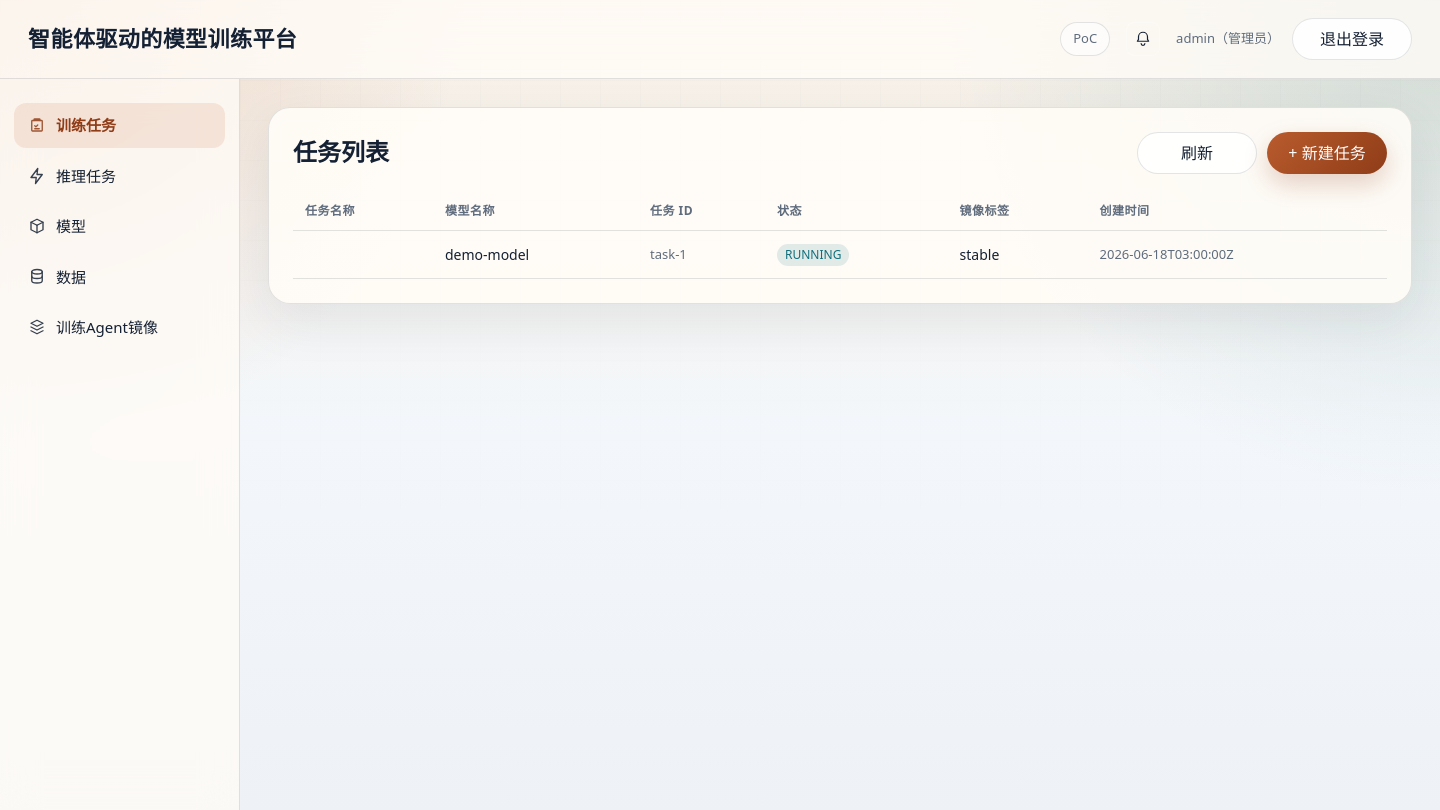
it: App navigation shell › opens a task detail view with info and log tabs
This screenshot has width=1440, height=810.
Click the button with test id "task-list-item-task-1". click: (840,254)
box: [293,230,1387,278]
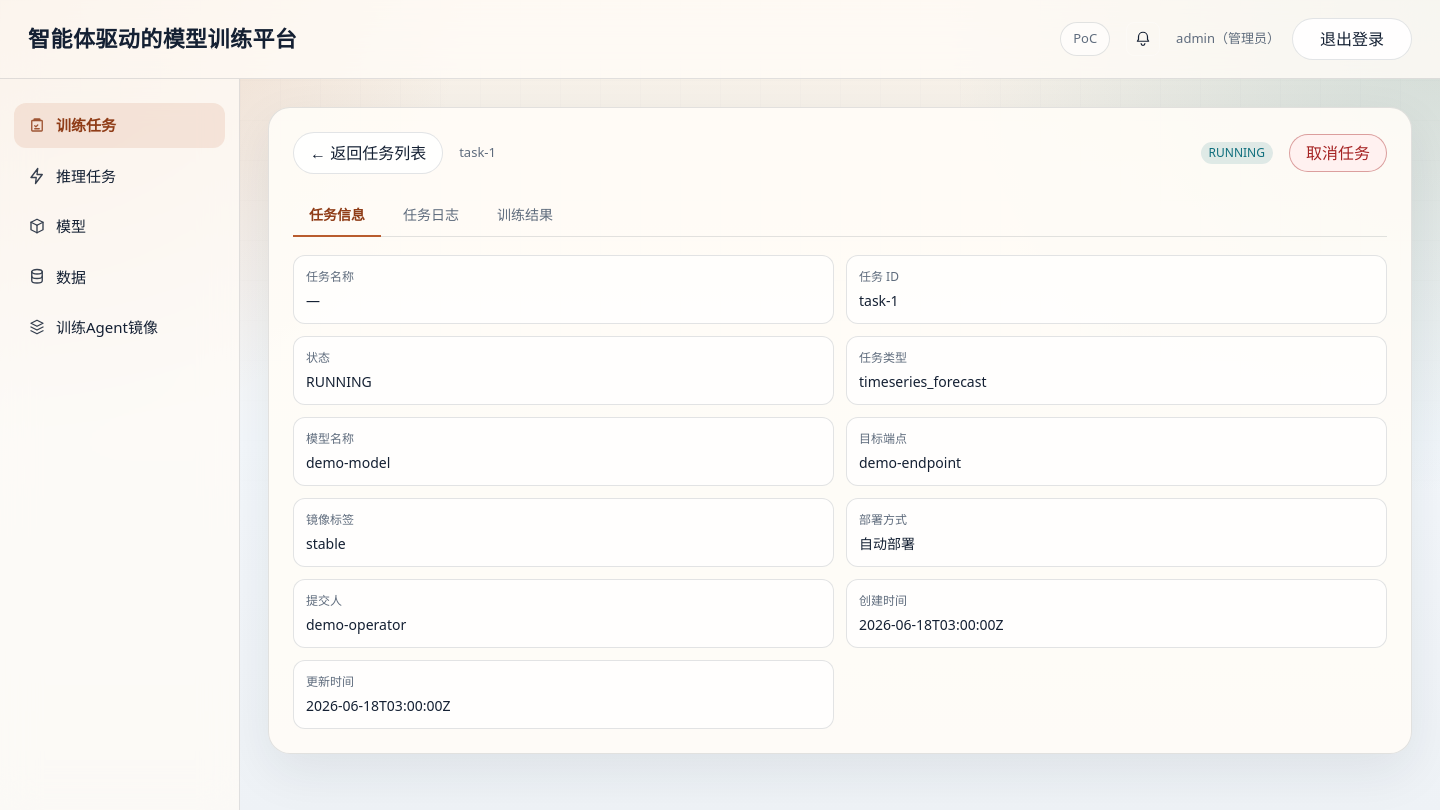
Check: the element with test id "task-detail-view" is shown
Check: the element with test id "task-detail-info" is shown, box [293,255,1387,729]
Click the tab with test id "task-detail-tab-logs". click: (431,216)
box: [387,194,475,237]
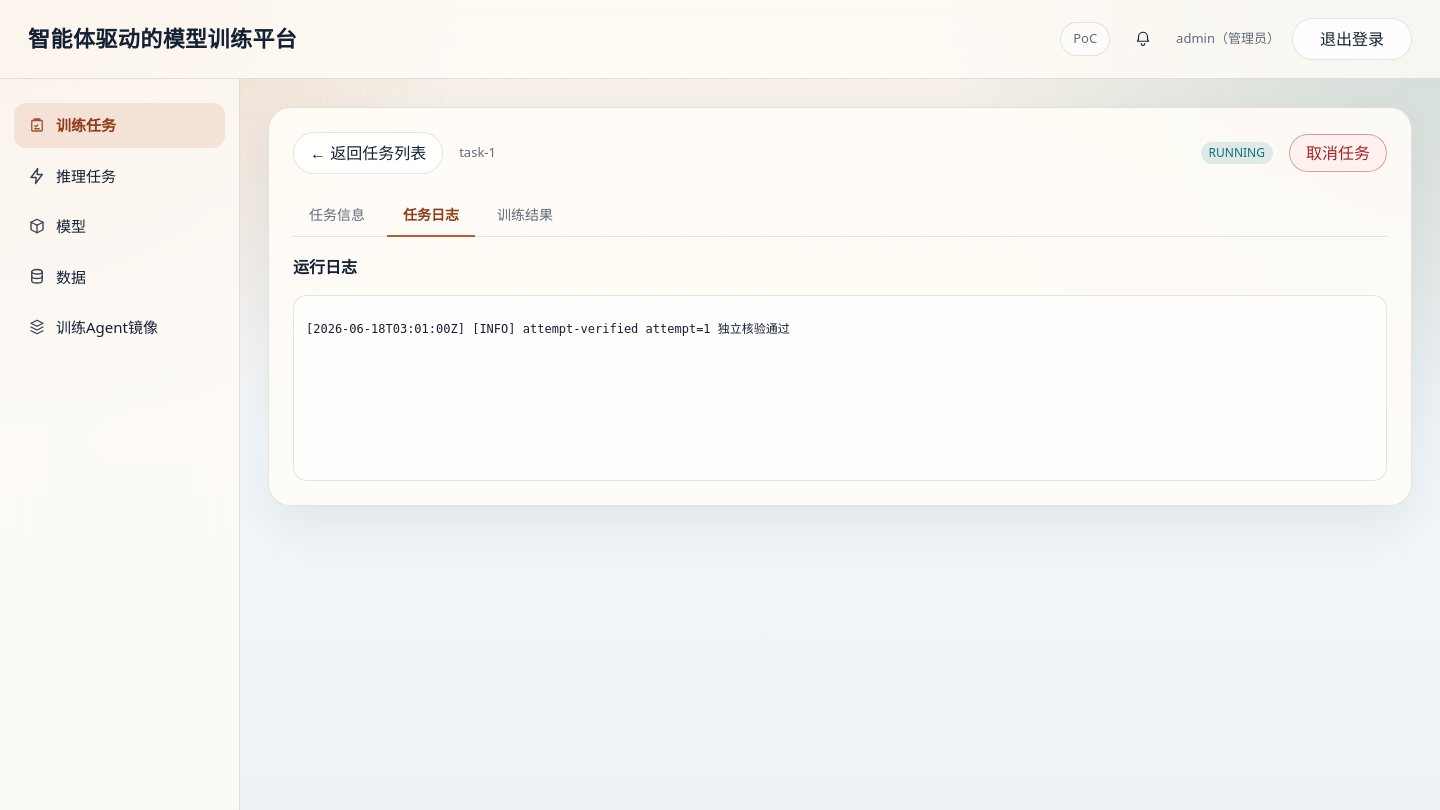
Check: the text "独立核验通过" is shown, box [306,322,790,336]
